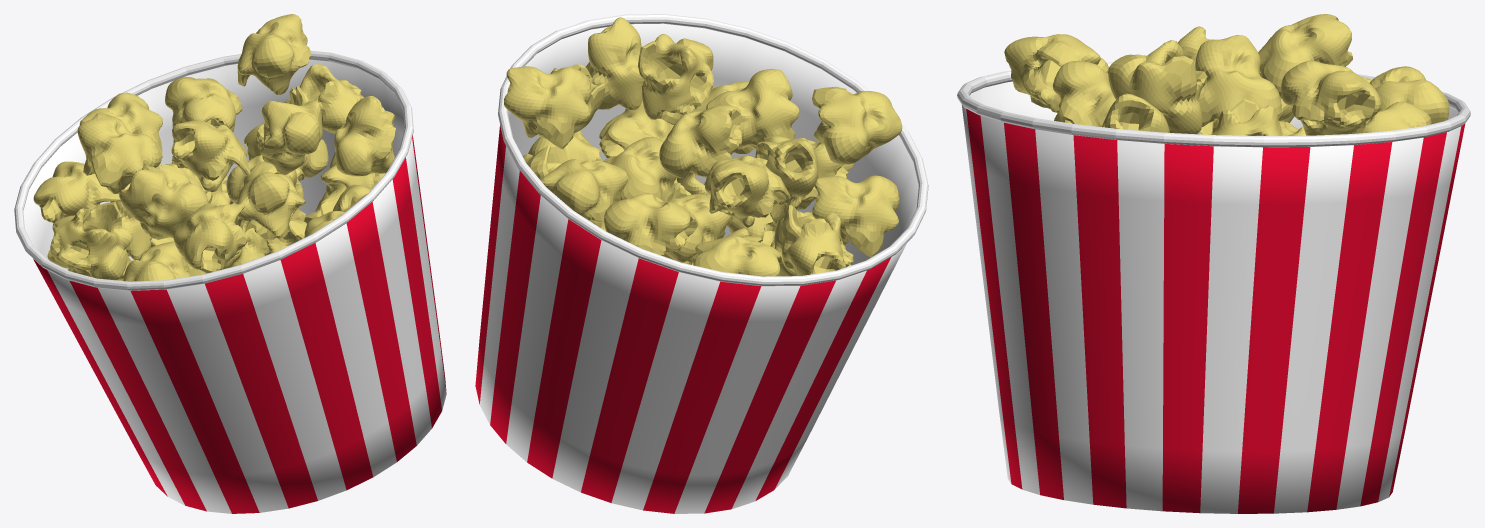
The model's file is popcorn_whygari.glb.
The picture shows the model from 3 angles, left to right: view 1: azimuth 30°, elevation 25°; view 2: azimuth 150°, elevation 25°; view 3: azimuth 270°, elevation 25°; orthographic projection. The views are drawn at different scales.
Visible parts, largest first — view 1: cup, flake.001, ring; view 2: cup, flake.001, ring; view 3: cup, flake.001, ring.
Boxes of the visible parts, x1=… form: cup: x1=23, y1=59, x2=446, y2=513; flake.001: x1=33, y1=14, x2=395, y2=281; ring: x1=14, y1=50, x2=413, y2=290; cup: x1=475, y1=23, x2=918, y2=513; flake.001: x1=504, y1=17, x2=902, y2=276; ring: x1=498, y1=14, x2=928, y2=286; cup: x1=962, y1=81, x2=1465, y2=513; flake.001: x1=1004, y1=14, x2=1449, y2=135; ring: x1=957, y1=62, x2=1470, y2=147.
Bounding box in the file's own units: 2.83 × 2.82 × 2.69.
